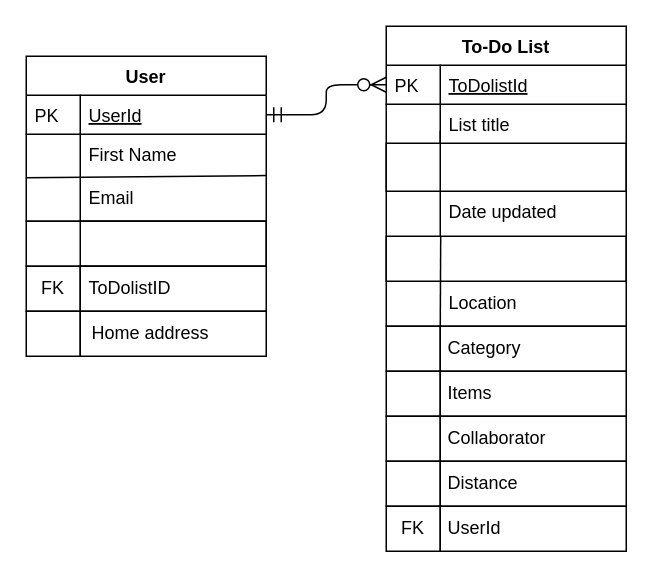
Some shapes in this 653 by 578 pixel diagram are drawn without their labels. The centre of each missing label's shape, as x and y in pixels:
Date created: point 505,166
Due date: point 505,258
Password: point 172,243
